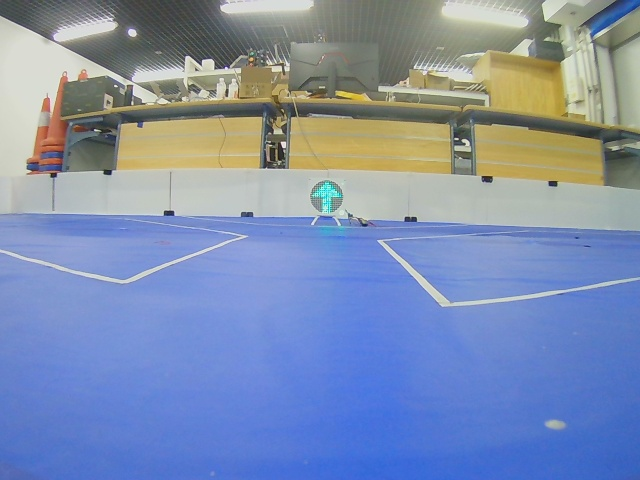straight_green: (310, 180, 344, 215)
